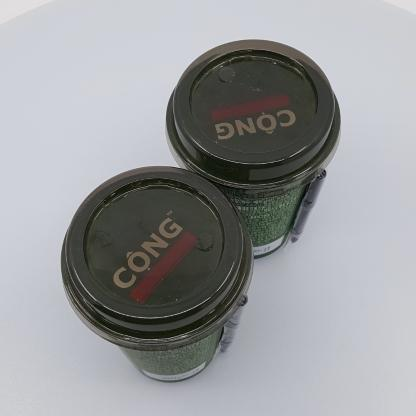---------: (61, 166, 254, 383), (165, 39, 341, 259)
